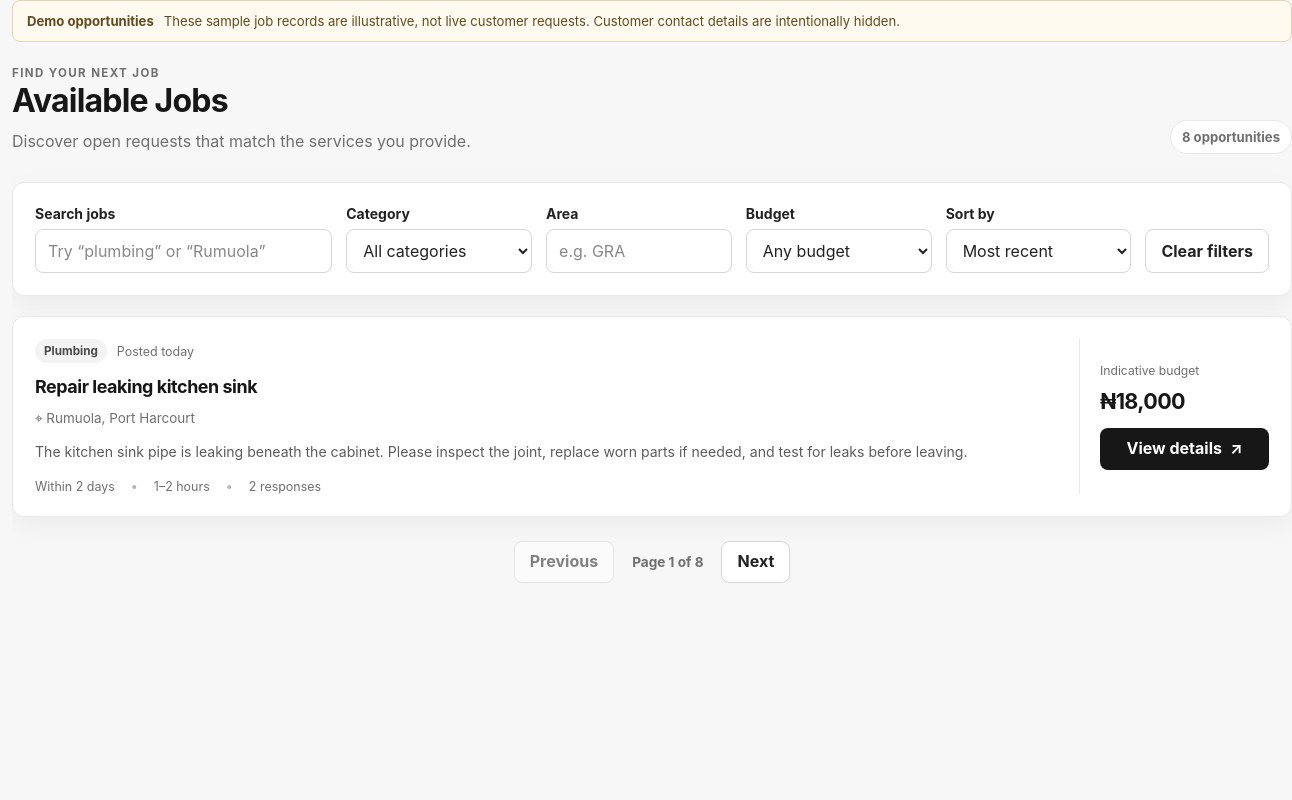
Scenario: available jobs discovery › resets pagination when a filter changes
Click the button "Next" at (756, 562), box [722,541,790,583]
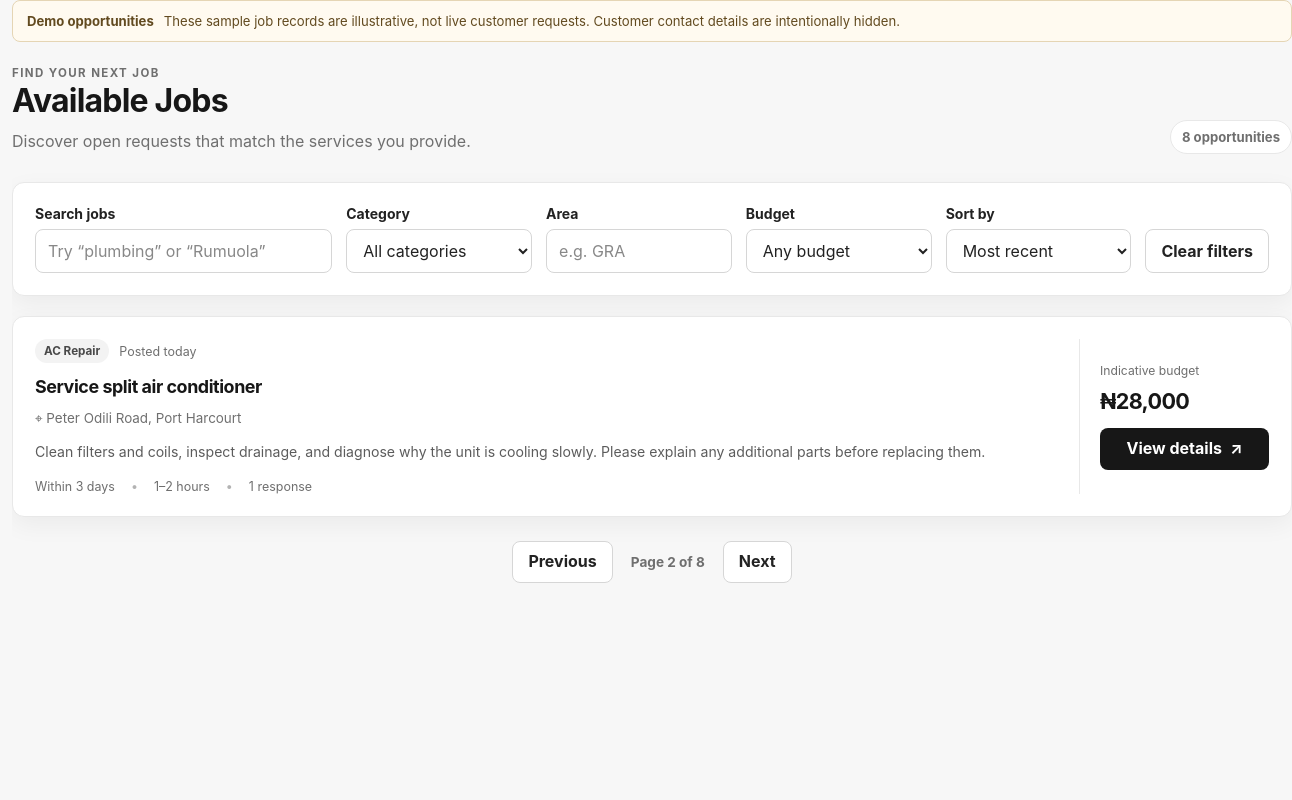
Select "Plumbing" in the dropdown labelled "Category" at (439, 251), box [346,229,532,273]
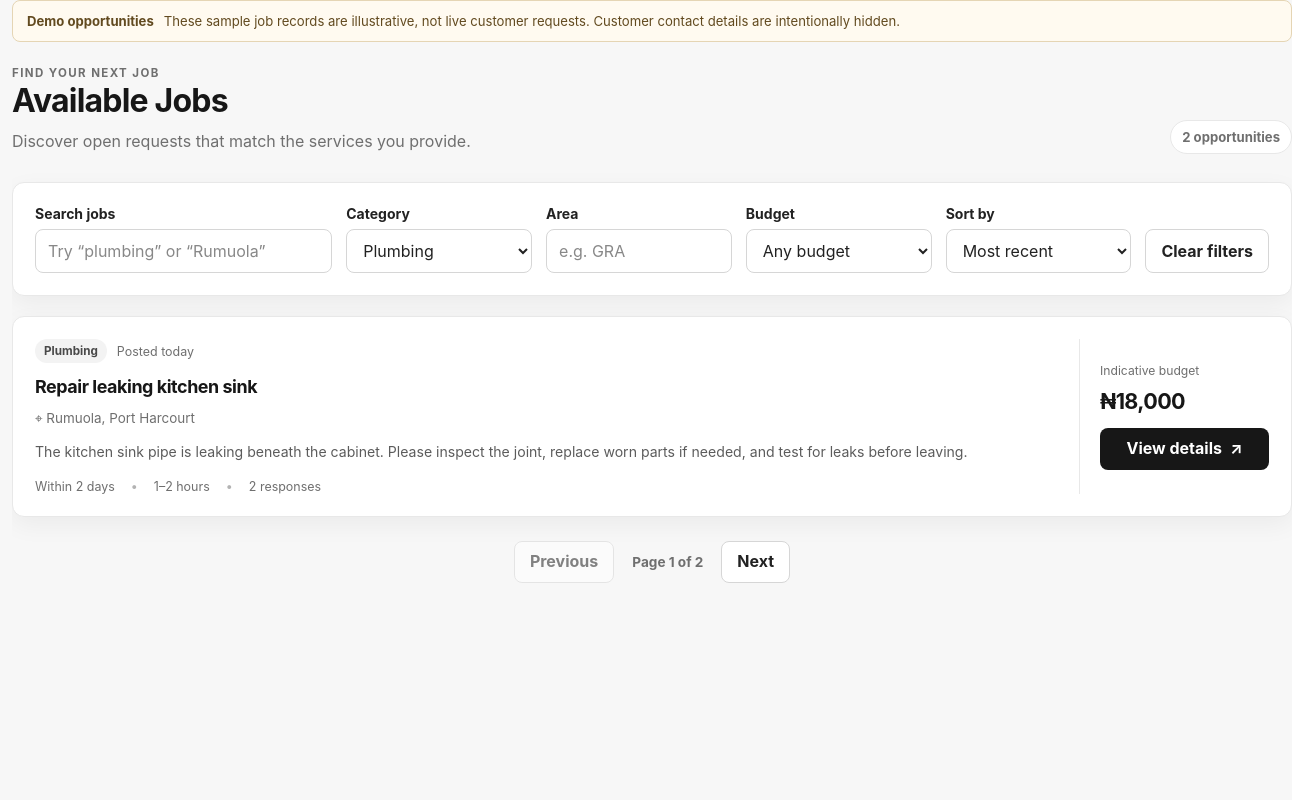
Expected: the text "Page 1 of 2" is shown, [632,554,703,570]
Expected: the heading "Repair leaking kitchen sink" is shown, [35,376,257,397]
